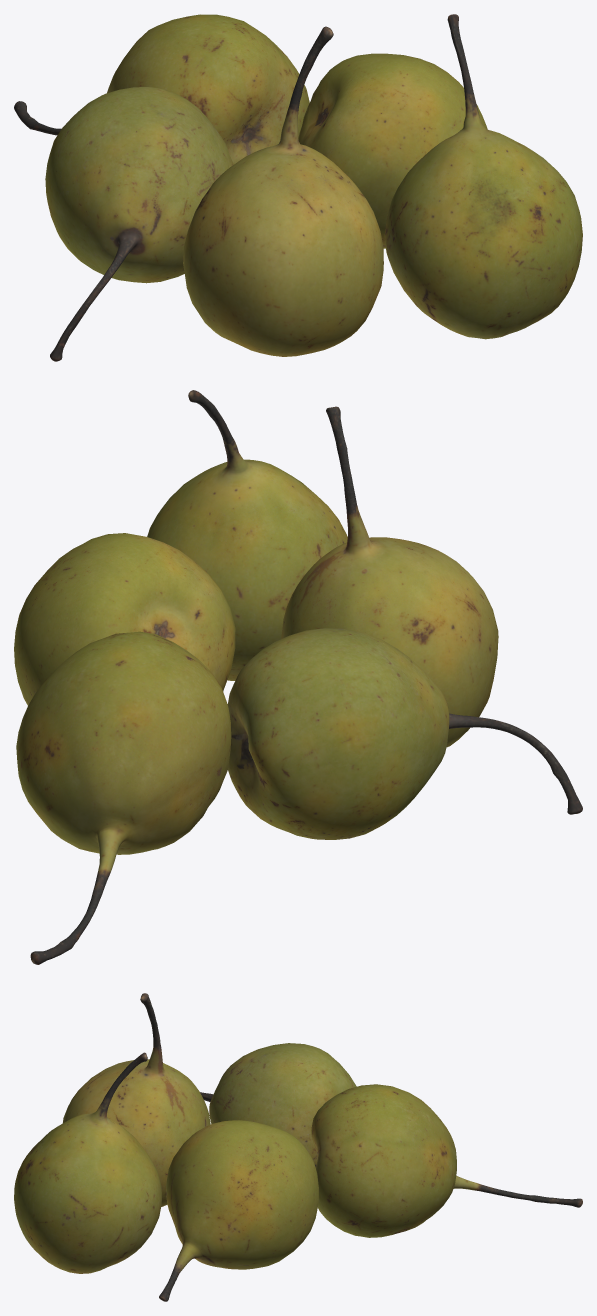
Rendered from food_pears_asian_01.gltf.
3 views of the same model, one above another, from view 1: azimuth 30°, elevation 25°; view 2: azimuth 150°, elevation 25°; view 3: azimuth 270°, elevation 25° (orthographic). The views are drawn at different scales.
Visible parts, largest first — view 1: food_pears_asian_01_c, food_pears_asian_01_e, food_pears_asian_01_a, food_pears_asian_01_d, food_pears_asian_01_b; view 2: food_pears_asian_01_b, food_pears_asian_01_a, food_pears_asian_01_c, food_pears_asian_01_e, food_pears_asian_01_d; view 3: food_pears_asian_01_d, food_pears_asian_01_b, food_pears_asian_01_e, food_pears_asian_01_a, food_pears_asian_01_c.
Part boxes in pixels (box(x1,y1,x2,y2)): food_pears_asian_01_c: box(183, 26, 383, 356); food_pears_asian_01_e: box(384, 14, 582, 339); food_pears_asian_01_a: box(45, 87, 233, 361); food_pears_asian_01_d: box(298, 53, 487, 248); food_pears_asian_01_b: box(14, 14, 309, 164); food_pears_asian_01_b: box(16, 631, 231, 964); food_pears_asian_01_a: box(227, 628, 582, 839); food_pears_asian_01_c: box(281, 406, 498, 747); food_pears_asian_01_e: box(147, 390, 347, 680); food_pears_asian_01_d: box(14, 533, 235, 705); food_pears_asian_01_d: box(159, 1120, 318, 1301); food_pears_asian_01_b: box(311, 1084, 582, 1237); food_pears_asian_01_e: box(14, 1052, 161, 1273); food_pears_asian_01_a: box(200, 1043, 356, 1167); food_pears_asian_01_c: box(63, 993, 210, 1206).
Size of the model in its own units: 0.1261 by 0.0712 by 0.1669.
Materials: 1 (1 with a texture image).
